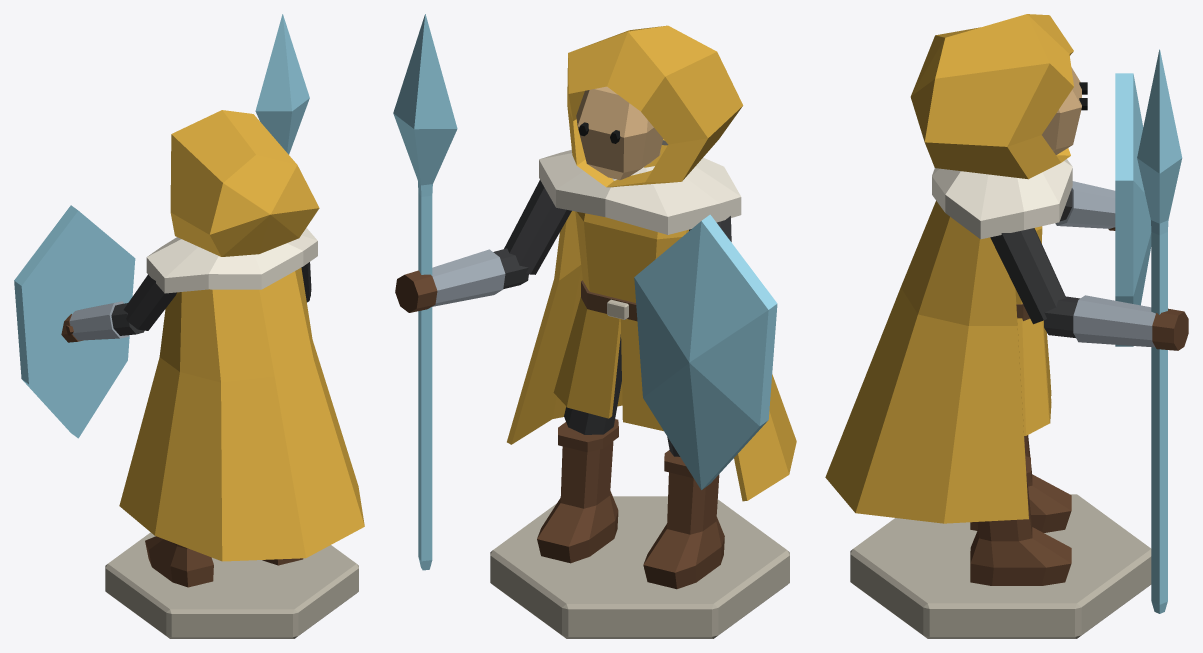
File: human_frostwarden_t5.glb
3 views of the same model, side by side, from view 1: azimuth 30°, elevation 25°; view 2: azimuth 150°, elevation 25°; view 3: azimuth 270°, elevation 25° (orthographic). The views are drawn at different scales.
Parts seen in each view (by area): view 1: Broad_Pointed_Back_Cape, frost_large_hexagonal_ice_shield, Pointed_Open_Hood_Shell, Foundation_Hexagonal_Stone, frost_one_connected_ivory_winter_collar, frost_entire_continuous_ice_spear, Boot_-1, left_upper_sleeve, left_bracer, left_lower_sleeve; view 2: frost_large_hexagonal_ice_shield, Foundation_Hexagonal_Stone, Pointed_Open_Hood_Shell, frost_entire_continuous_ice_spear, Broad_Pointed_Back_Cape, frost_one_connected_ivory_winter_collar, Boot_1, Boot_-1, Continuous_Tunic_Bodice, Angular_Face, Split_Tunic_Front_1, right_upper_sleeve (+8 smaller); view 3: Broad_Pointed_Back_Cape, Foundation_Hexagonal_Stone, Pointed_Open_Hood_Shell, frost_entire_continuous_ice_spear, frost_one_connected_ivory_winter_collar, frost_large_hexagonal_ice_shield, Boot_1, right_upper_sleeve, right_bracer, Continuous_Split_Tunic_Skirt, Boot_-1, left_bracer (+3 smaller).
Part boxes in pixels (<box>): Broad_Pointed_Back_Cape: <box>119,268,364,561</box>; frost_large_hexagonal_ice_shield: <box>14,205,135,438</box>; Pointed_Open_Hood_Shell: <box>170,110,319,256</box>; Foundation_Hexagonal_Stone: <box>105,532,358,638</box>; frost_one_connected_ivory_winter_collar: <box>146,228,317,293</box>; frost_entire_continuous_ice_spear: <box>255,14,309,154</box>; Boot_-1: <box>145,536,213,587</box>; left_upper_sleeve: <box>123,274,176,330</box>; left_bracer: <box>69,301,129,340</box>; left_lower_sleeve: <box>111,303,144,335</box>; frost_large_hexagonal_ice_shield: <box>634,214,777,489</box>; Foundation_Hexagonal_Stone: <box>490,496,789,638</box>; Pointed_Open_Hood_Shell: <box>567,25,743,187</box>; frost_entire_continuous_ice_spear: <box>393,14,457,570</box>; Broad_Pointed_Back_Cape: <box>507,211,796,501</box>; frost_one_connected_ivory_winter_collar: <box>539,140,741,234</box>; Boot_1: <box>537,441,618,563</box>; Boot_-1: <box>643,472,724,589</box>; Continuous_Tunic_Bodice: <box>575,211,688,302</box>; Angular_Face: <box>576,86,663,180</box>; Split_Tunic_Front_1: <box>566,309,620,418</box>; right_upper_sleeve: <box>504,180,571,274</box>; Broad_Pointed_Back_Cape: <box>825,201,1028,523</box>; Foundation_Hexagonal_Stone: <box>850,494,1151,638</box>; Pointed_Open_Hood_Shell: <box>910,14,1073,179</box>; frost_entire_continuous_ice_spear: <box>1137,49,1182,613</box>; frost_one_connected_ivory_winter_collar: <box>932,159,1072,239</box>; frost_large_hexagonal_ice_shield: <box>1115,73,1151,346</box>; Boot_1: <box>970,483,1071,585</box>; right_upper_sleeve: <box>990,228,1065,324</box>; right_bracer: <box>1073,295,1155,347</box>; Continuous_Split_Tunic_Skirt: <box>1017,318,1049,435</box>; Boot_-1: <box>970,435,1071,532</box>; left_bracer: <box>1055,181,1115,228</box>.
Bounding box in the file's own units: 1.3 × 2.03 × 1.11.
